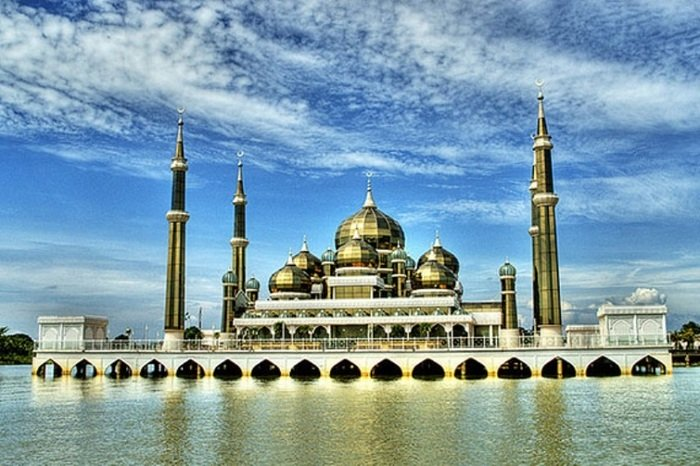Mosque: (71, 98, 661, 387)
